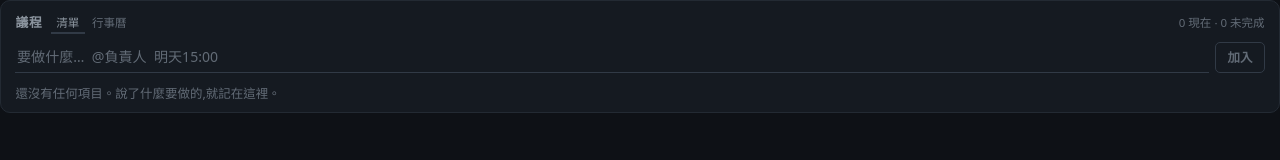
Test: @ mentions › completes on Enter without submitting the form
Type "寄簡報 @al" into the dropdown named "新增項目". click: (612, 57)
box: x1=15 y1=42 x2=1209 y2=73
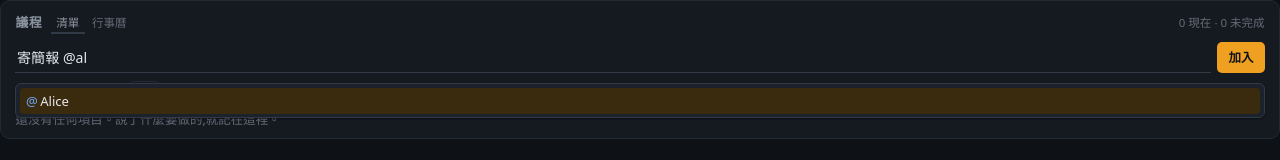
Press Enter in the dropdown named "新增項目", box x1=15 y1=42 x2=1211 y2=73
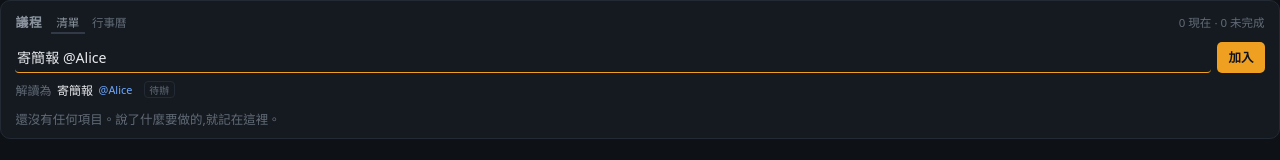
Result: the dropdown named "新增項目" holds "寄簡報 @Alice " at x1=15 y1=42 x2=1211 y2=73
